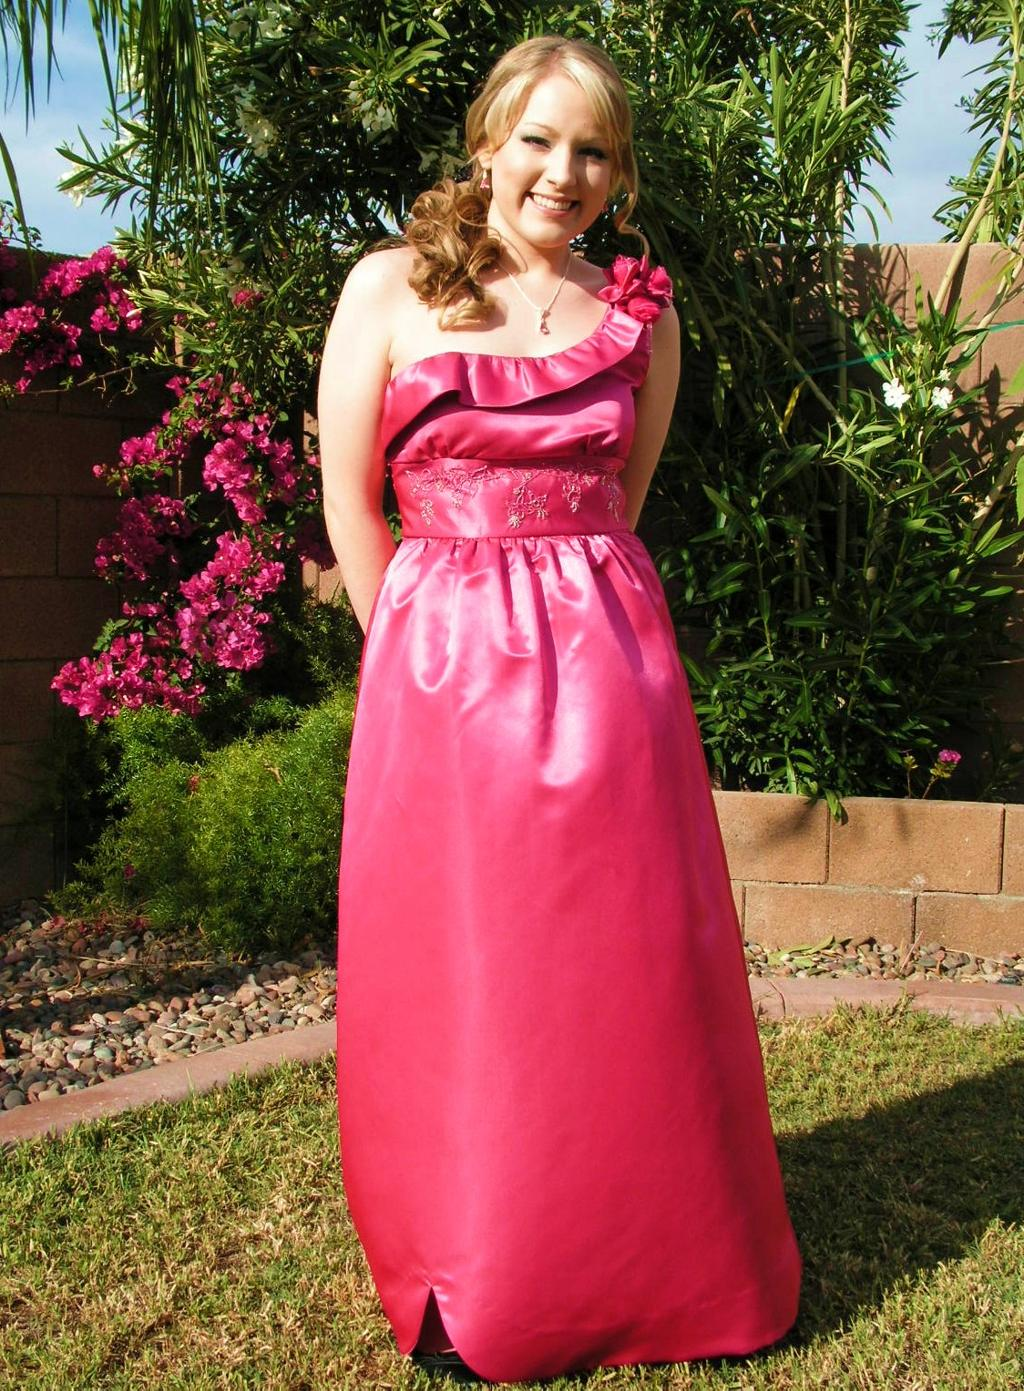face: (494, 65, 614, 247)
